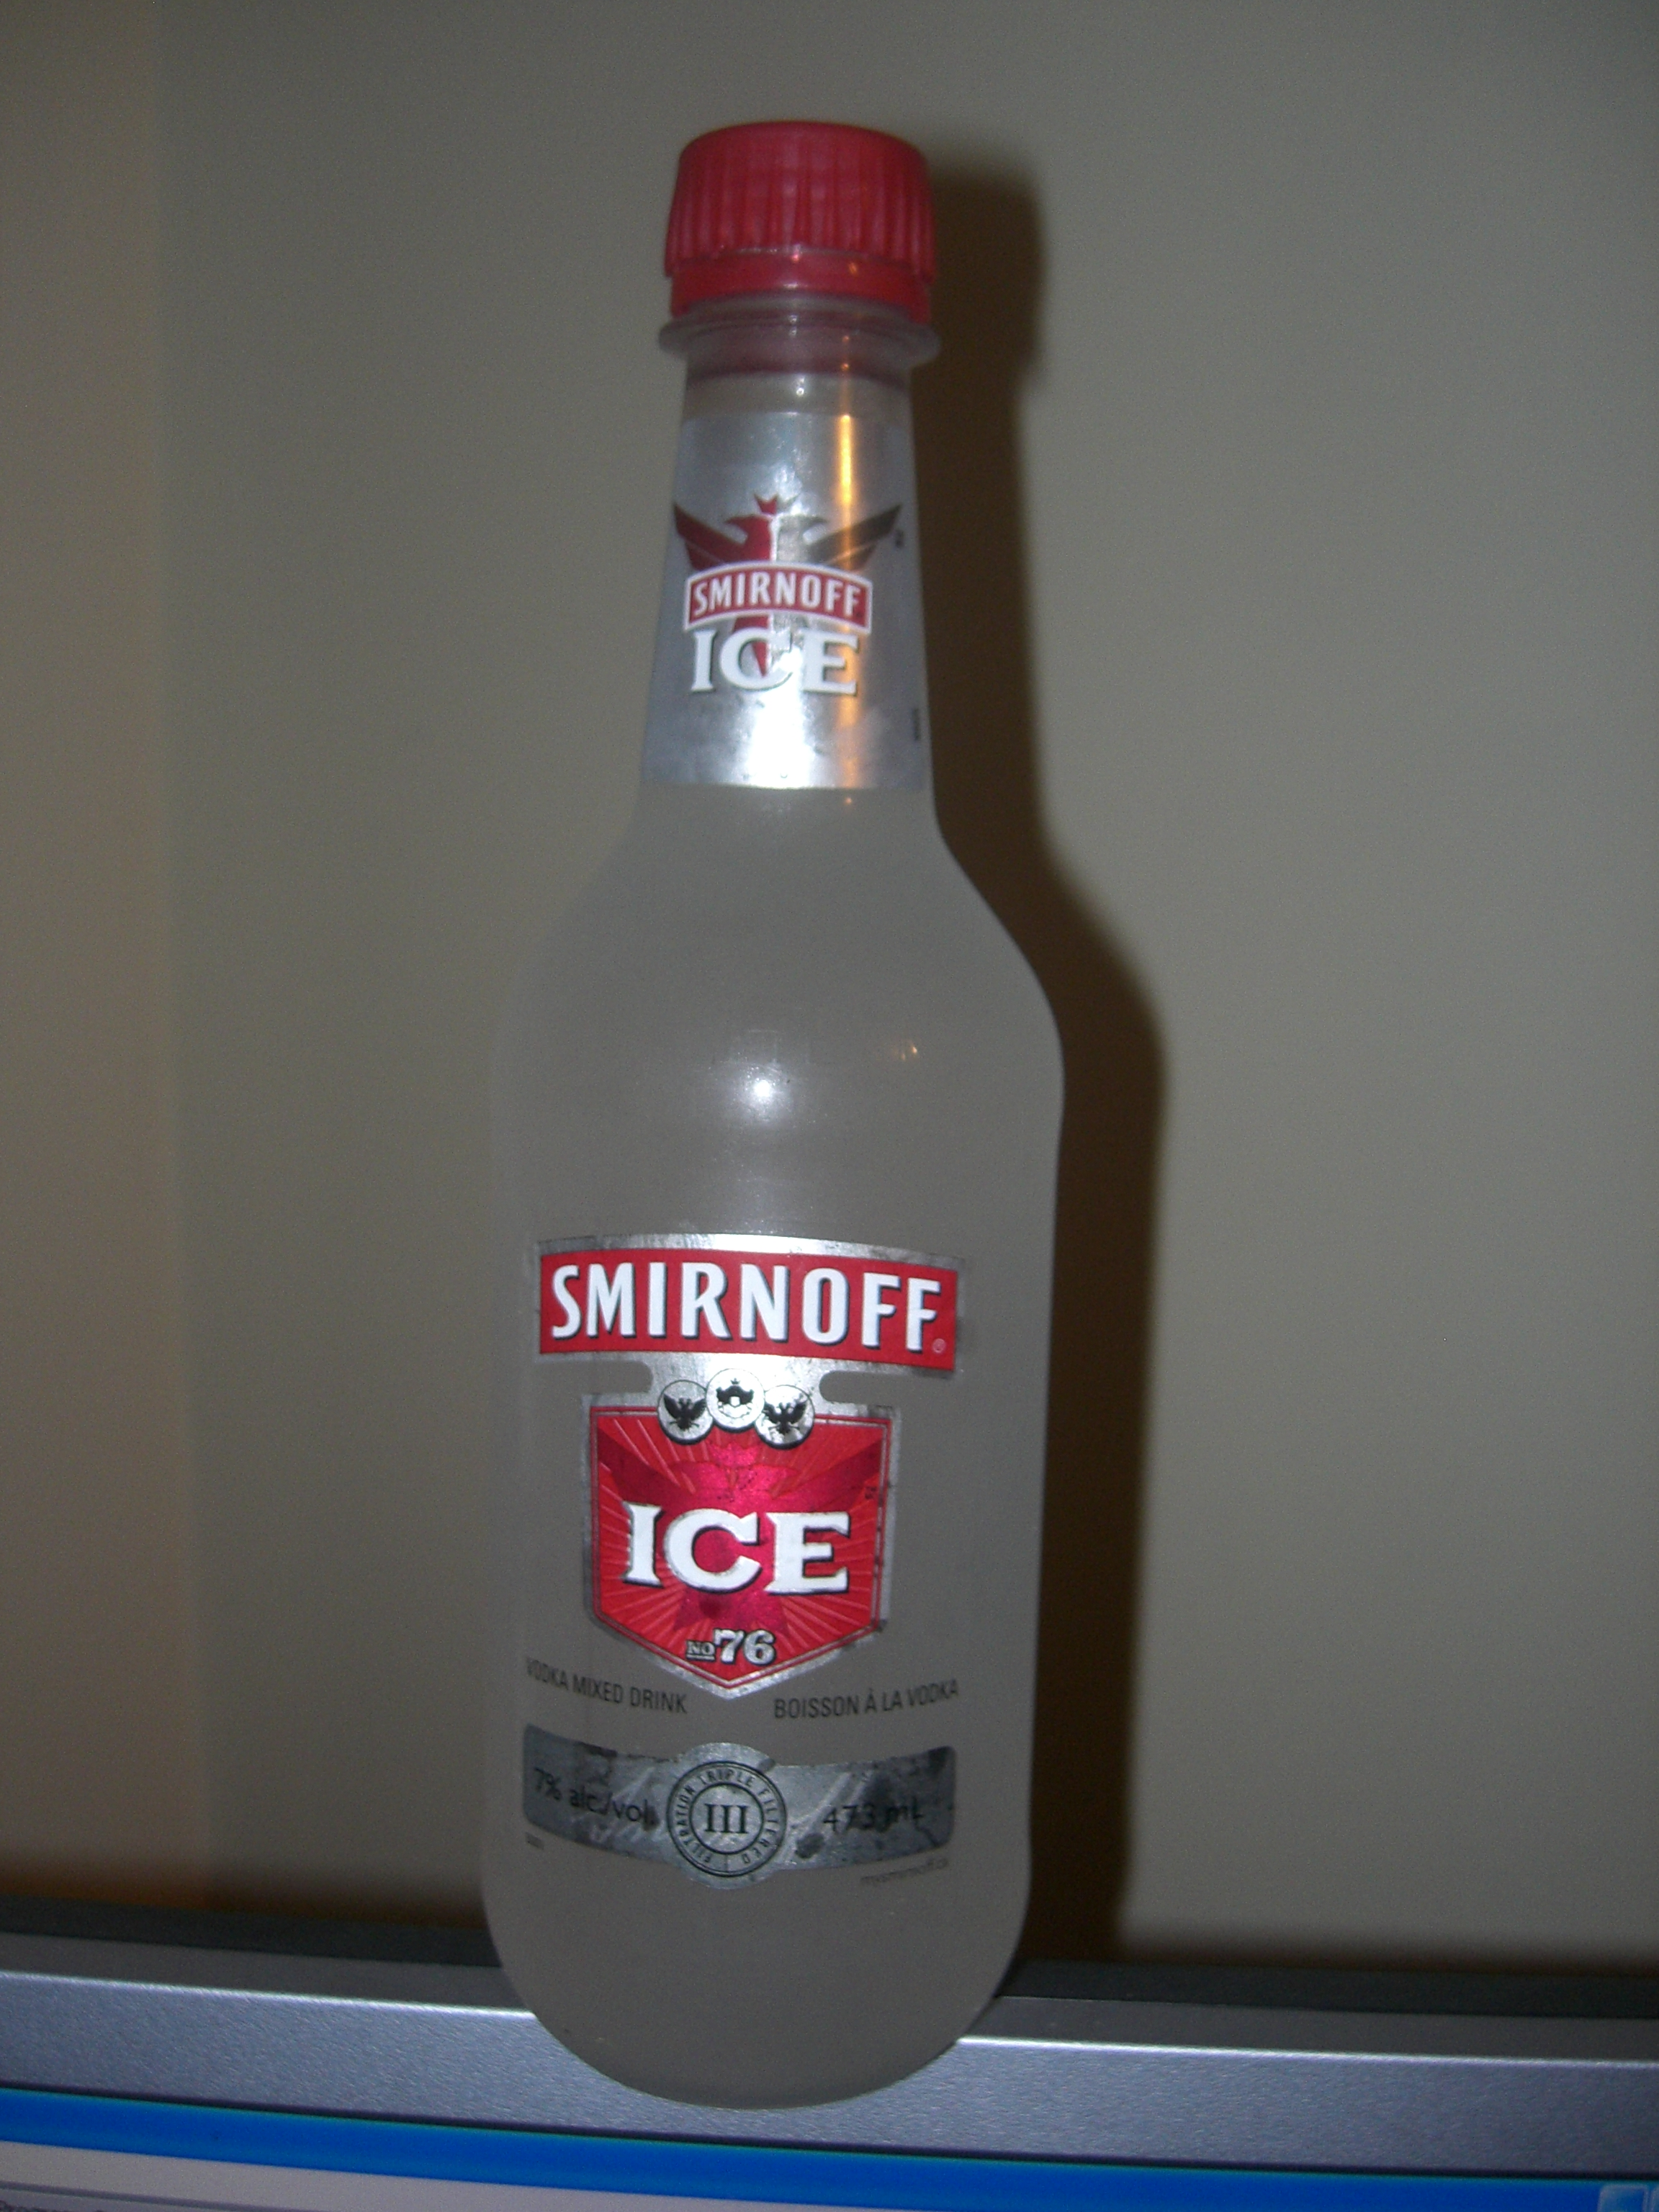Smirnoff: (408, 78, 1140, 2155)
